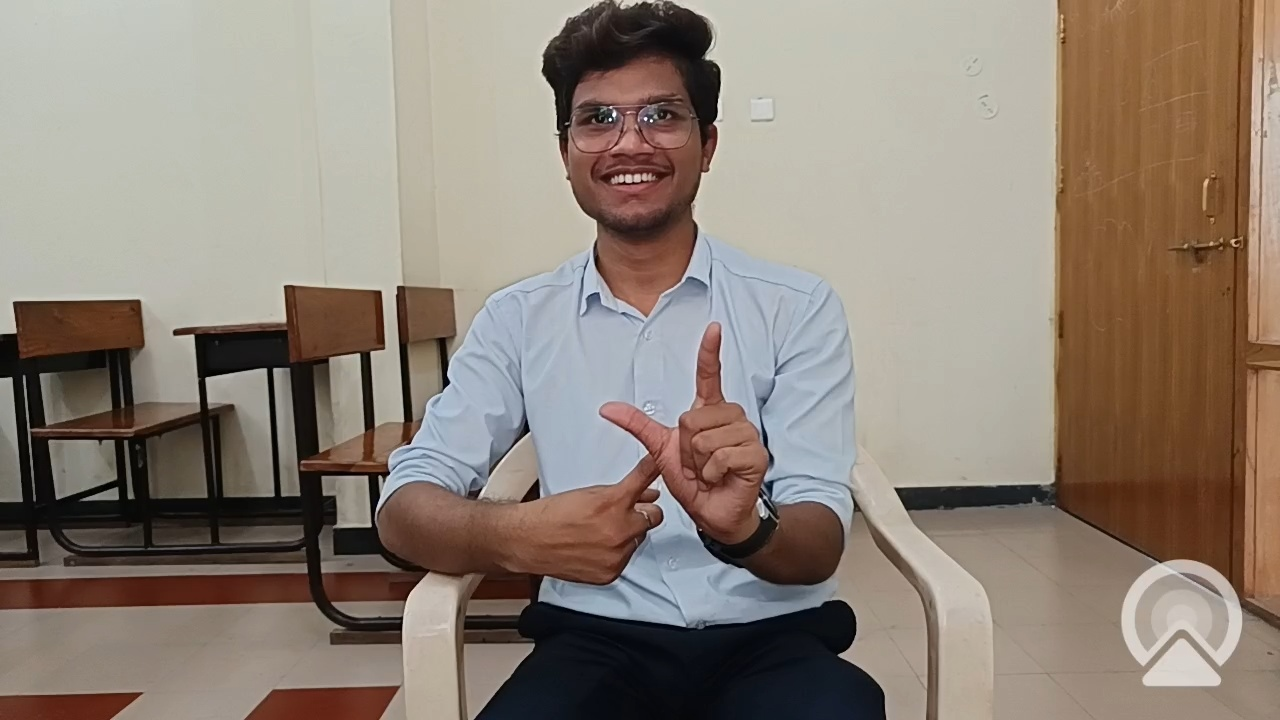Y: (489, 285, 824, 608)
